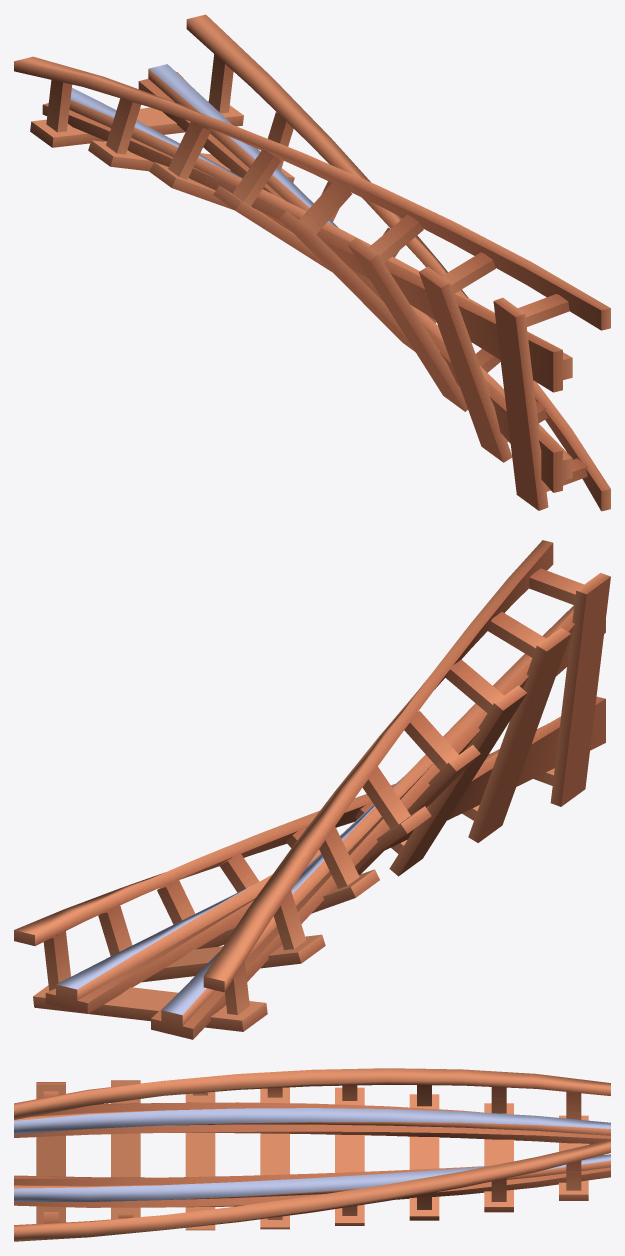
Rendered from coaster-wood-straight-skew-left-side.glb.
The picture shows the model from 3 angles, top to bottom: view 1: azimuth 30°, elevation 25°; view 2: azimuth 150°, elevation 25°; view 3: azimuth 270°, elevation 25°; orthographic projection. The views are drawn at different scales.
Visible parts, largest first — view 1: coaster-wood-straight-skew-left-side; view 2: coaster-wood-straight-skew-left-side; view 3: coaster-wood-straight-skew-left-side.
Boxes of the visible parts, x1,y1,x2,y2 form: coaster-wood-straight-skew-left-side: (14,14,610,511); coaster-wood-straight-skew-left-side: (14,540,610,1039); coaster-wood-straight-skew-left-side: (14,1068,610,1241).
Size of the model in its own units: 3.25 by 3.25 by 12.
1 material, 1 textured.
